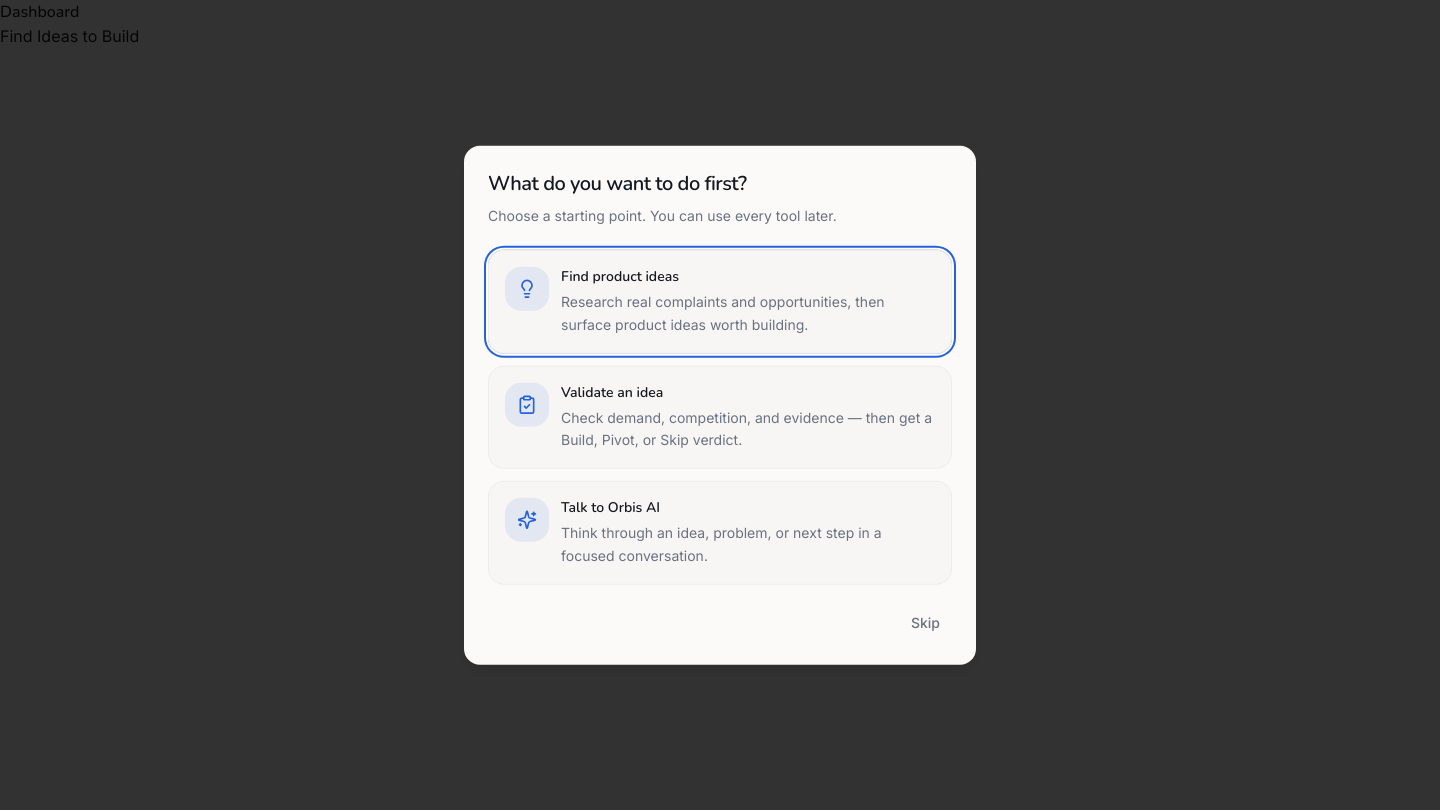
Scenario: OnboardingTour goal routing › navigates {} to /generate with one-time focus request
Click the button "Find product ideas": click(720, 302) x1=488 y1=250 x2=952 y2=353
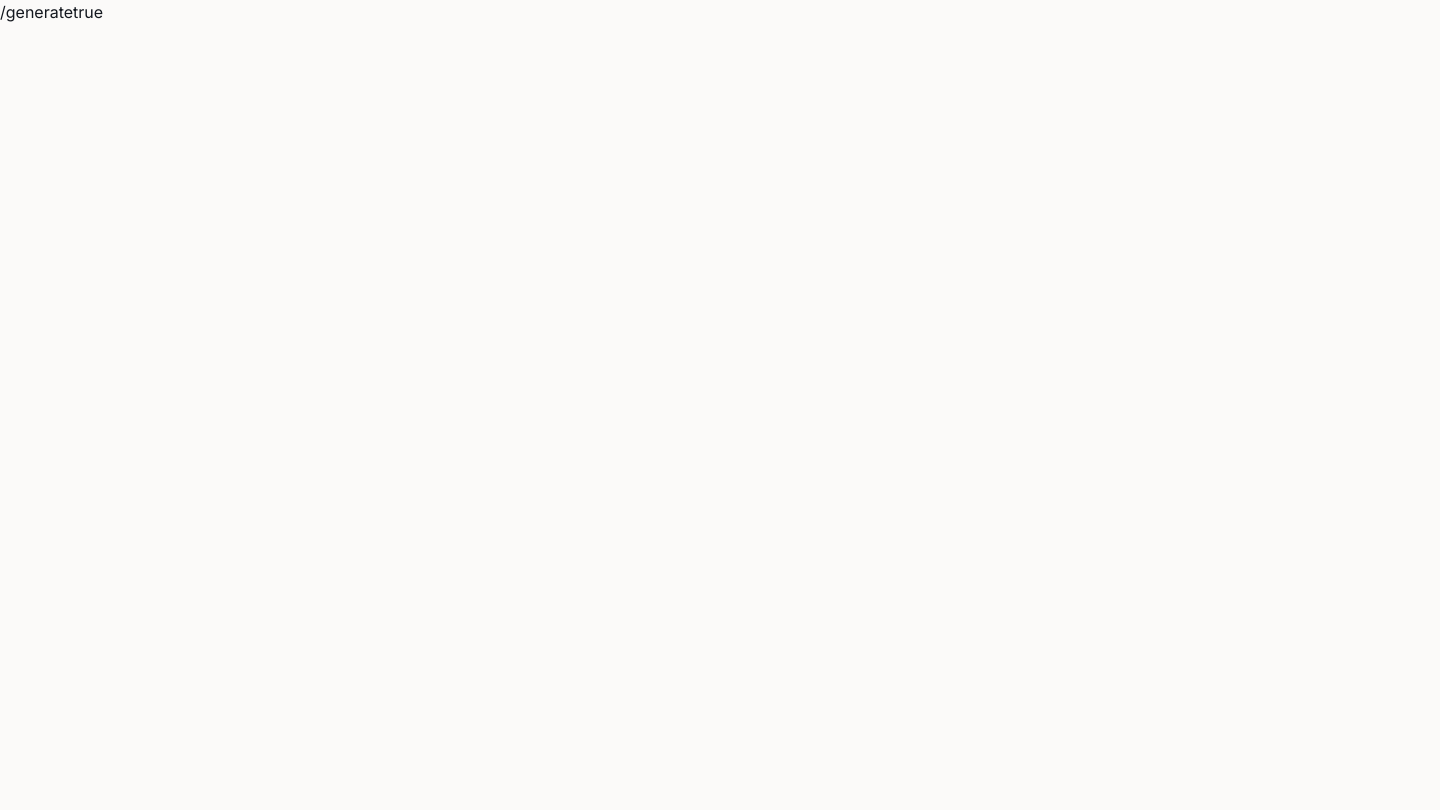
Result: the text with test id "pathname" reads "/generate" at x1=0 y1=2 x2=73 y2=22
Result: the text with test id "focus-flag" reads "true" at x1=73 y1=2 x2=103 y2=22
Result: the dialog is gone
